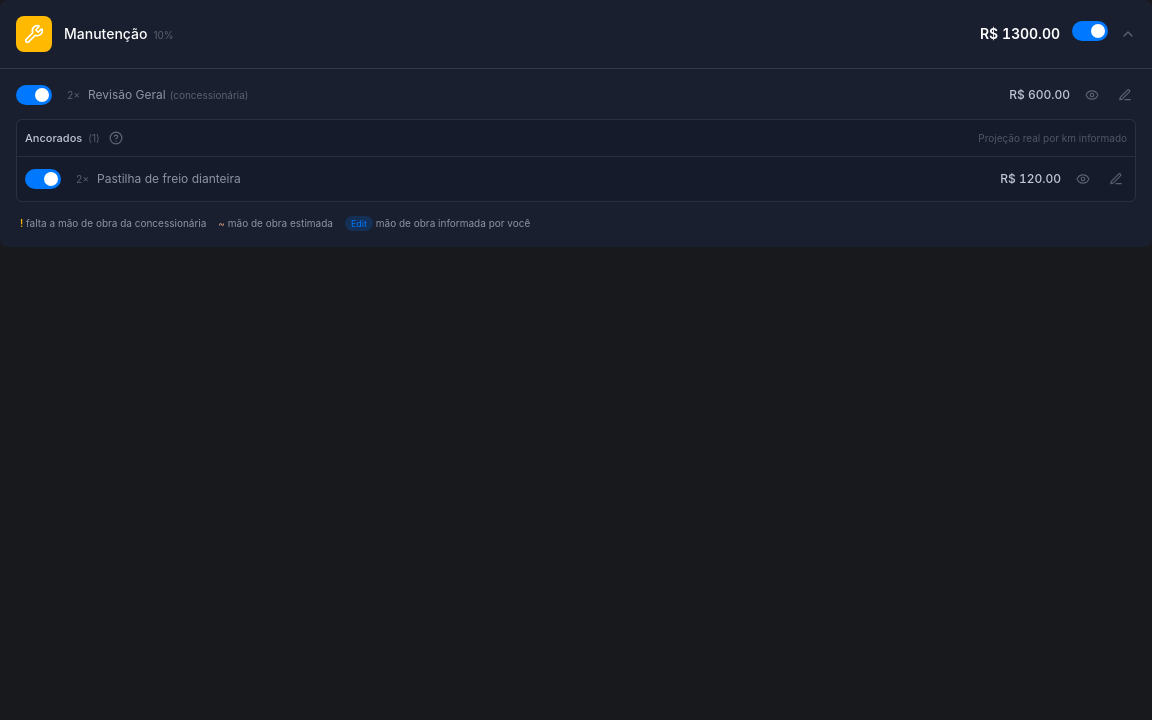
Test case: SecaoManutencao › lista no popup "?" dos Ancorados as peças ocultas e o km da próxima troca
This screenshot has width=1152, height=720.
Expected: the text "Kit transmissão" is not shown
What coordinates should you click on to do the following:
click the button named "Entender Ancorados"
I would click on:
 (116, 138)
Its box is [106,128,126,148].
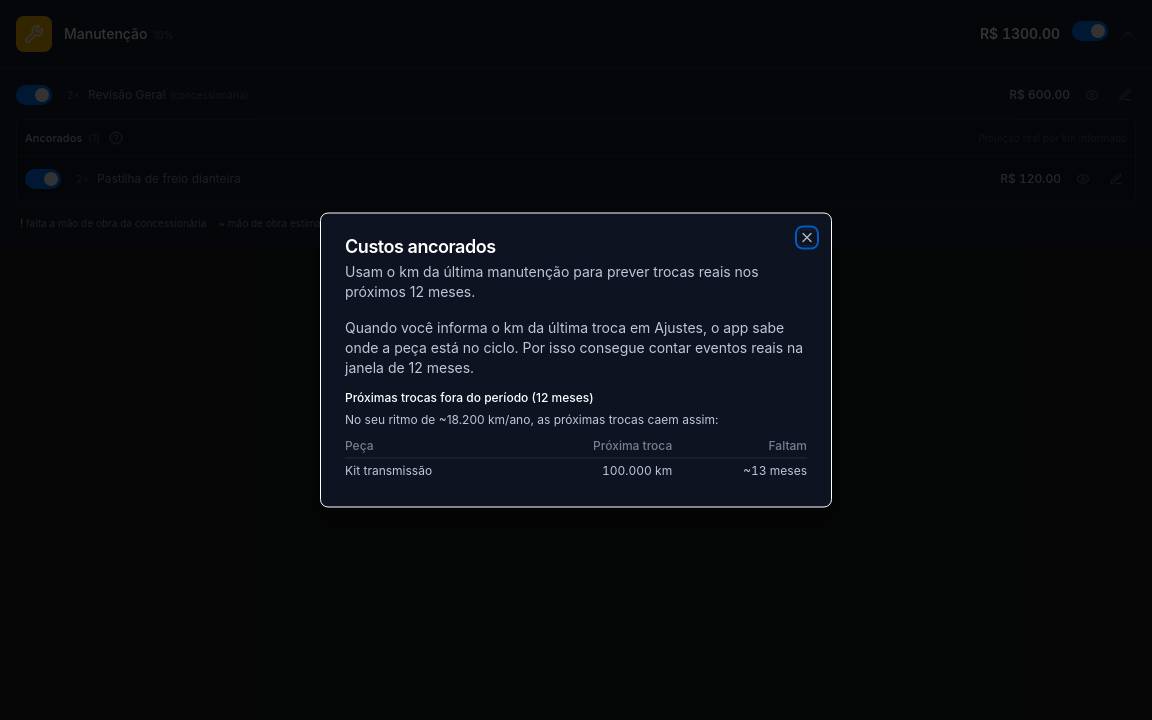
Expected: the text "Próximas trocas fora do período (12 meses)" is shown, [345,390,594,404]
Expected: the text "Kit transmissão" is shown, [345,458,524,482]
Expected: the text "100.000 km" is shown, [524,458,672,482]
